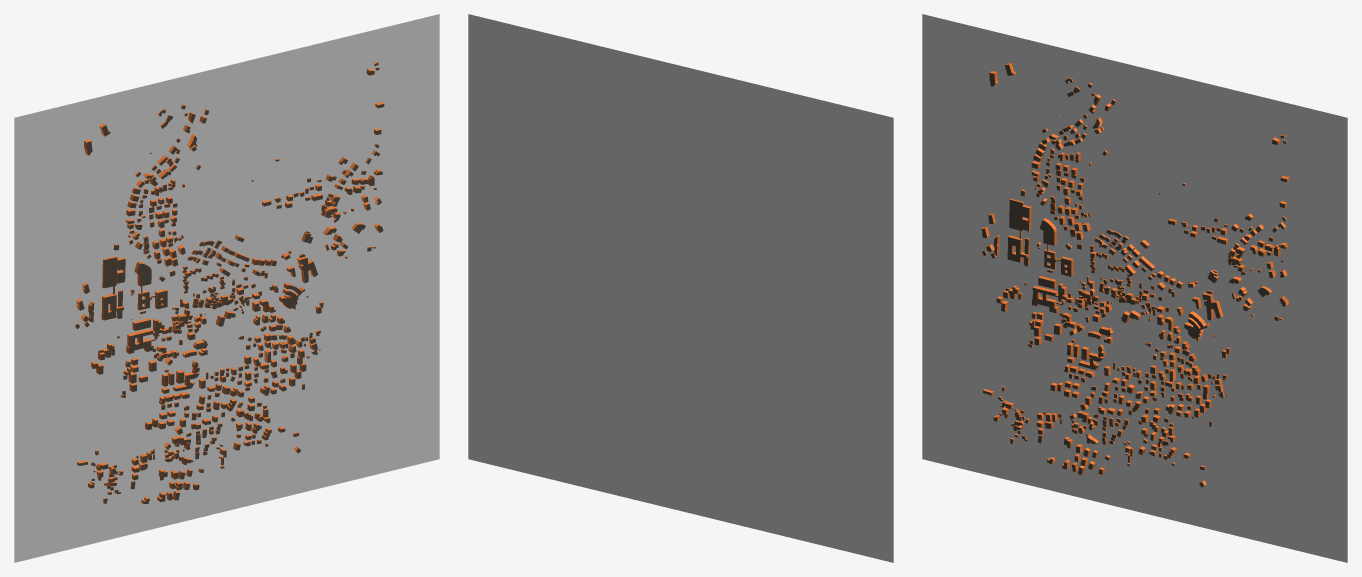
The model's file is Mappa.obj.
3 renders of one model, left to right at view 1: azimuth 30°, elevation 25°; view 2: azimuth 150°, elevation 25°; view 3: azimuth 330°, elevation 25°, orthographic.
Visible parts, largest first — view 1: Piano; view 2: Piano; view 3: Piano.
Part boxes in pixels (x1,y1,x2,y2): Piano: (14, 14, 439, 562); Piano: (468, 14, 893, 562); Piano: (922, 14, 1347, 562).
Bounding box in the file's own units: 1600 × 1600 × 22.06.
